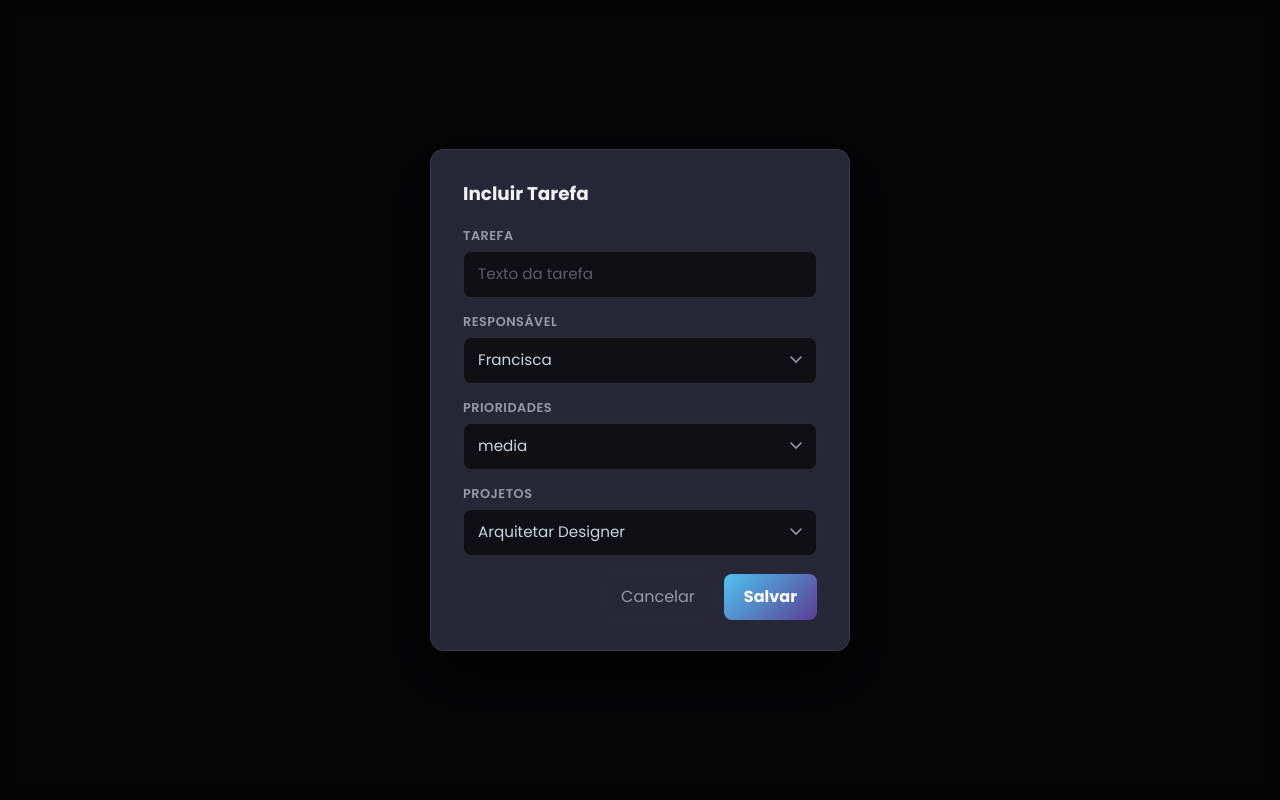
Test: ModalTarefa › a API recusa: mostra os erros e não fecha
The width and height of the screenshot is (1280, 800).
Click the button "Salvar": click(770, 597) [724,574,817,620]
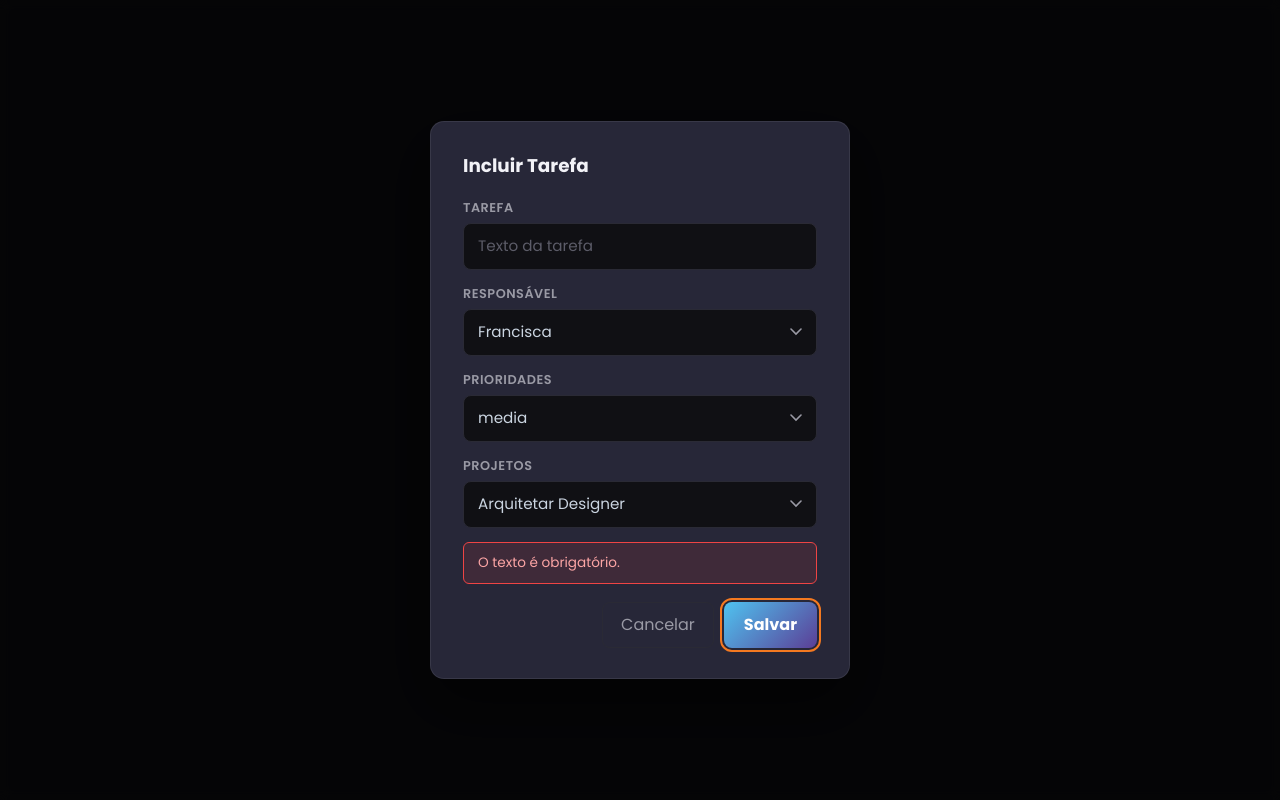
Check: the list item "O texto é obrigatório." is shown, box [478,553,620,572]
